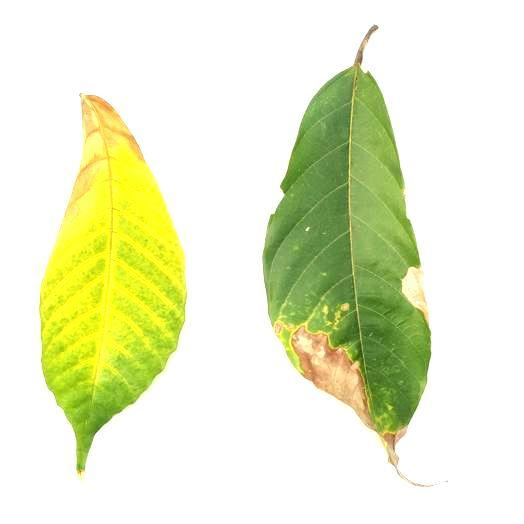Potassium: (263, 26, 430, 479), (41, 95, 185, 472)
